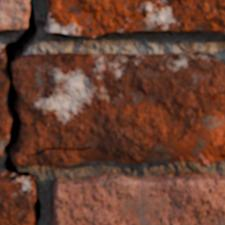brick: (51, 173, 224, 224), (45, 0, 224, 36), (0, 172, 35, 224), (0, 0, 30, 30)
broken_brick: (13, 50, 224, 167), (0, 47, 10, 152)
crack: (0, 0, 41, 224)
